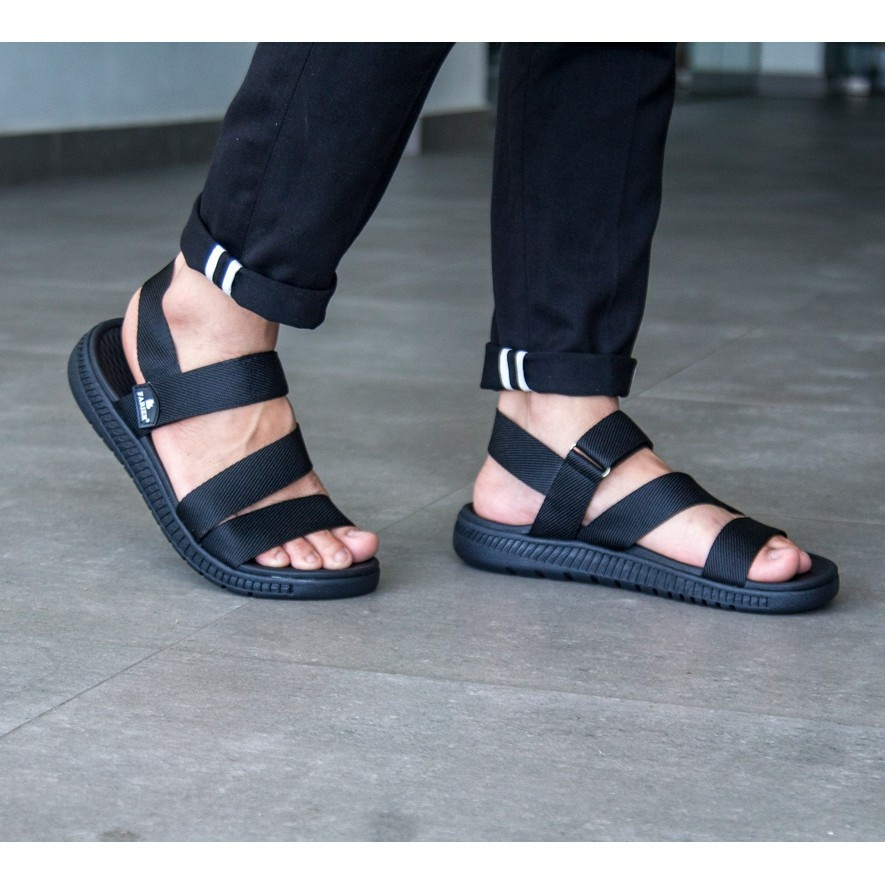sandals: (67, 257, 385, 602), (453, 403, 842, 614)
